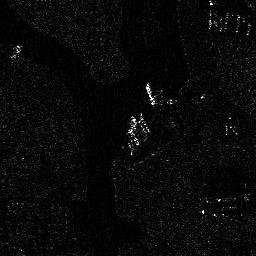ship: (143, 80, 158, 106)
